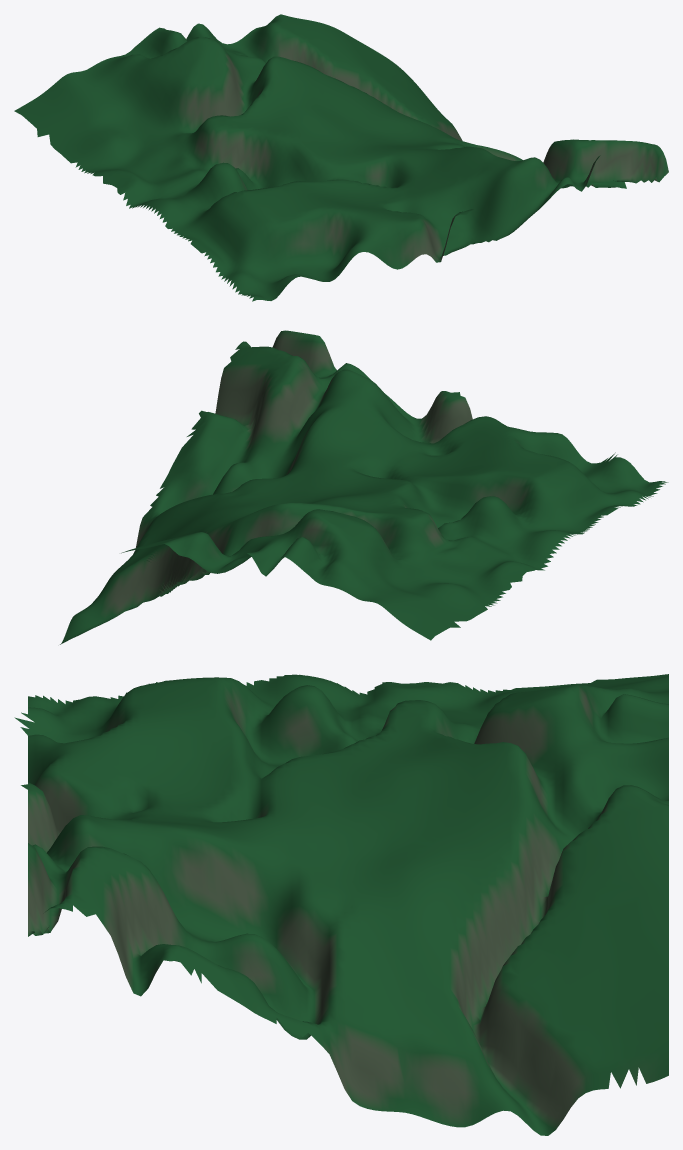
File: payo_land_x1_y3.glb
The picture shows the model from 3 angles, top to bottom: view 1: azimuth 30°, elevation 25°; view 2: azimuth 150°, elevation 25°; view 3: azimuth 270°, elevation 25°; orthographic projection. The views are drawn at different scales.
Visible parts, largest first — view 1: payo_land_x1_y3; view 2: payo_land_x1_y3; view 3: payo_land_x1_y3.
Part boxes in pixels (bbox=[...]): payo_land_x1_y3: bbox=[14, 14, 668, 301]; payo_land_x1_y3: bbox=[60, 330, 668, 644]; payo_land_x1_y3: bbox=[14, 674, 668, 1135].
Bounding box in the file's own units: 261 × 120 × 261.
